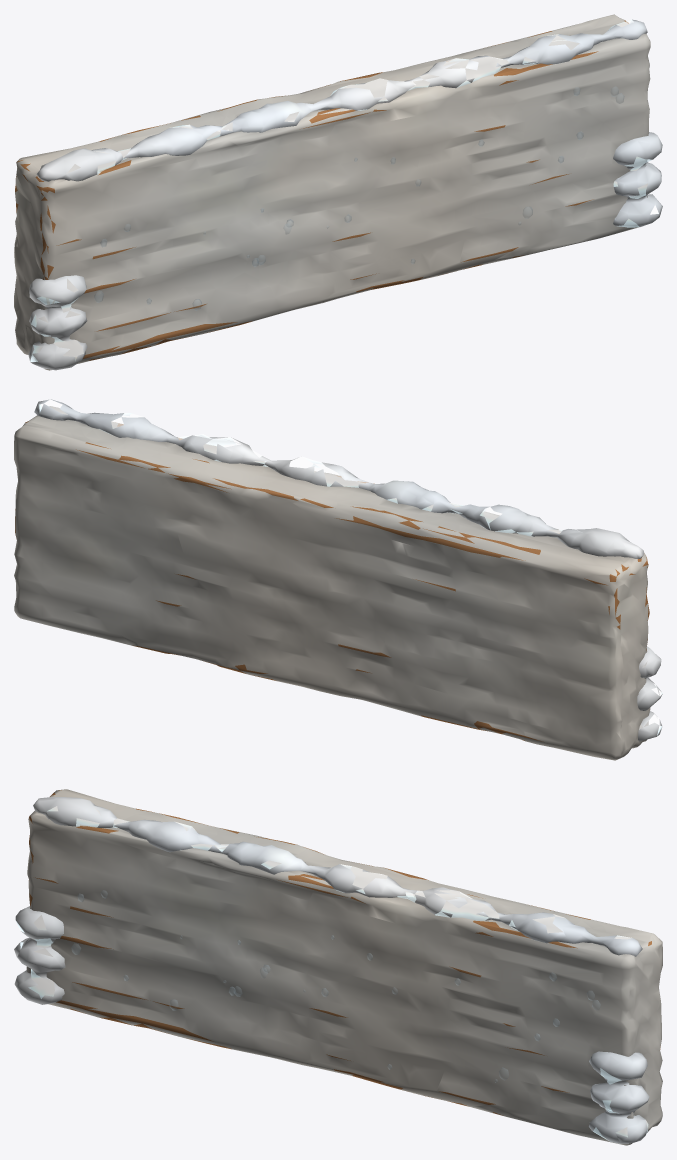
Rendered from frost_window_cliff.glb.
3 renders of one model, top to bottom at view 1: azimuth 30°, elevation 25°; view 2: azimuth 150°, elevation 25°; view 3: azimuth 330°, elevation 25°, orthographic.
Visible parts, largest first — view 1: frost_window_cliff; view 2: frost_window_cliff; view 3: frost_window_cliff.
Boxes of the visible parts, x1,y1,x2,y2 form: frost_window_cliff: (14,14,662,370); frost_window_cliff: (14,399,662,760); frost_window_cliff: (14,789,662,1145).
Bounding box in the file's own units: 41.68 × 13.14 × 5.03.
